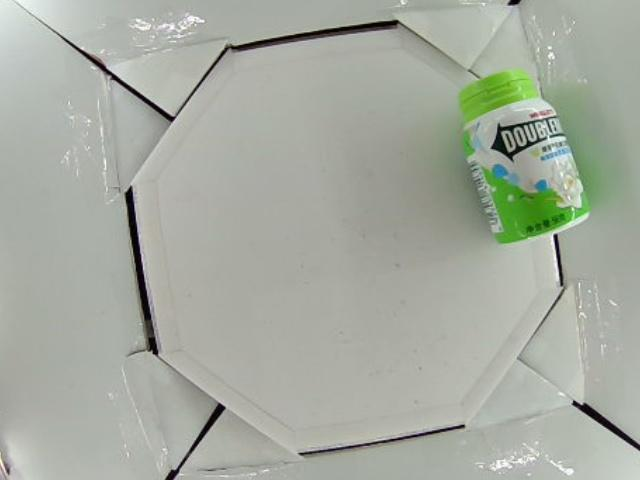Bottle: (456, 64, 594, 246)
